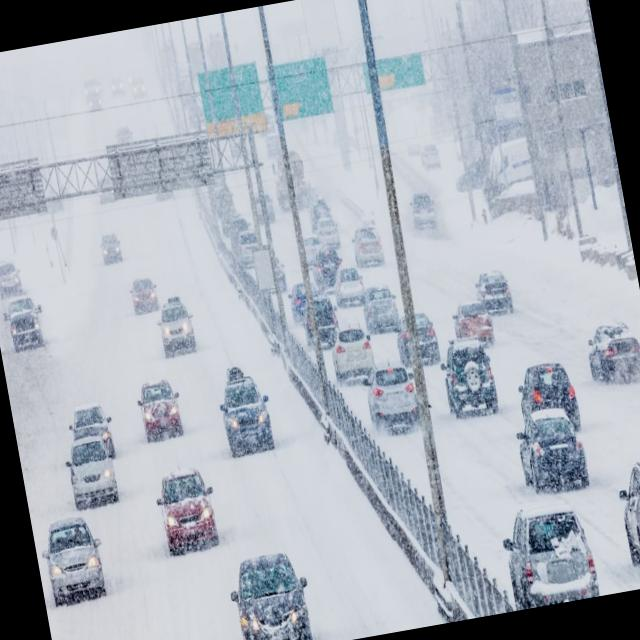Vehicle: (486, 492, 603, 612), (216, 529, 330, 640), (33, 508, 125, 628), (139, 460, 225, 561), (510, 402, 595, 499), (206, 370, 287, 471), (579, 299, 640, 396), (126, 360, 190, 450), (439, 340, 505, 424), (56, 434, 124, 514), (609, 442, 640, 589), (518, 347, 584, 410), (364, 362, 419, 433), (0, 291, 52, 362), (56, 392, 120, 440), (152, 296, 199, 358), (472, 260, 524, 312), (407, 184, 449, 239), (447, 297, 494, 343), (329, 326, 374, 374), (360, 284, 402, 332), (118, 276, 160, 317), (349, 220, 387, 264), (92, 228, 130, 264), (310, 296, 344, 332), (334, 263, 364, 301), (0, 258, 28, 292)
